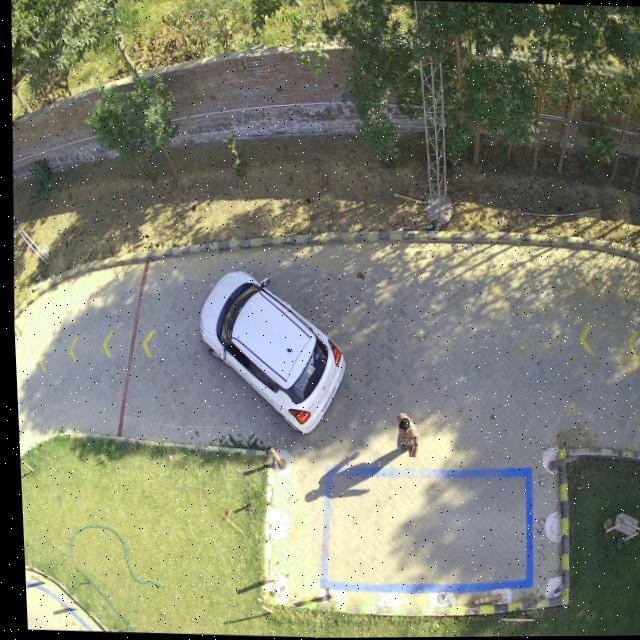car: (195, 271, 341, 435)
